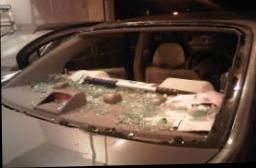Windshield: (1, 30, 243, 144)
